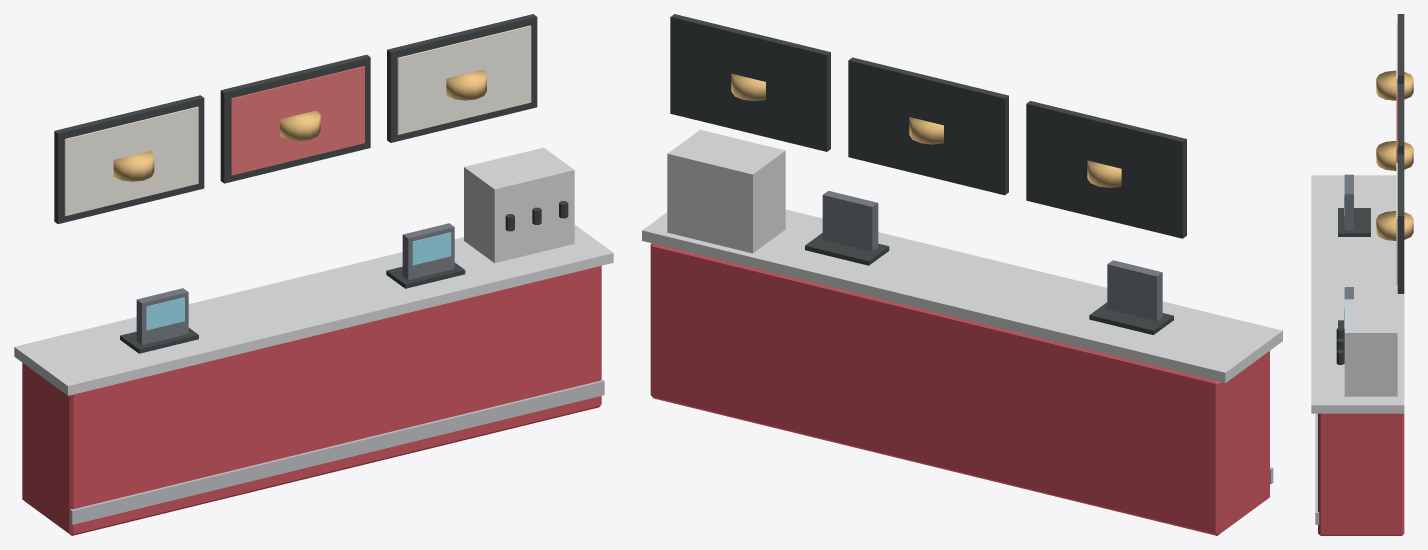
The model's file is counter-chicken.glb.
3 renders of one model, left to right at view 1: azimuth 30°, elevation 25°; view 2: azimuth 150°, elevation 25°; view 3: azimuth 270°, elevation 25°, orthographic. The views are drawn at different scales.
Parts seen in each view (by area): view 1: counter-chicken; view 2: counter-chicken; view 3: counter-chicken.
Part boxes in pixels (<box>): counter-chicken: <box>14,14,613,535</box>; counter-chicken: <box>642,14,1282,535</box>; counter-chicken: <box>1311,14,1413,535</box>.
Bounding box in the file's own units: 4.1 × 2.6 × 0.77.
